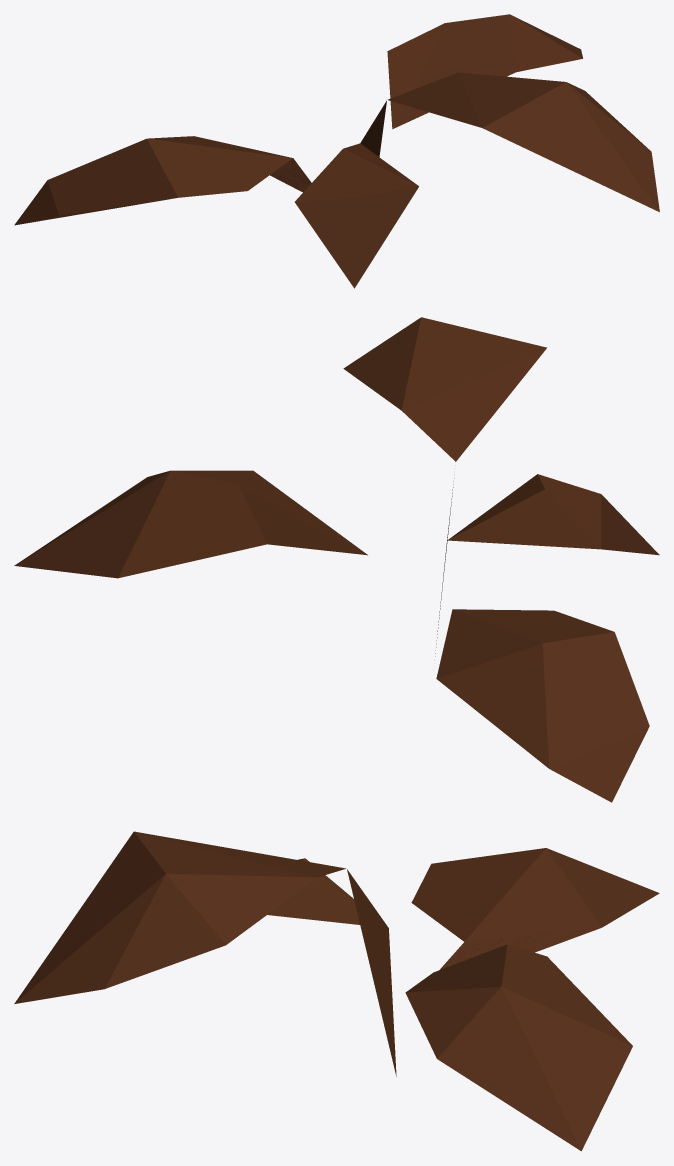
The model's file is ShrubLeavesTiny02.fbx.
The picture shows the model from 3 angles, top to bottom: view 1: azimuth 30°, elevation 25°; view 2: azimuth 150°, elevation 25°; view 3: azimuth 270°, elevation 25°; orthographic projection. The views are drawn at different scales.
Visible parts, largest first — view 1: ShrubLeavesTiny02; view 2: ShrubLeavesTiny02; view 3: ShrubLeavesTiny02.
Part boxes in pixels (x1=…): ShrubLeavesTiny02: x1=14, y1=14, x2=659, y2=288; ShrubLeavesTiny02: x1=14, y1=317, x2=659, y2=802; ShrubLeavesTiny02: x1=14, y1=831, x2=659, y2=1151.
Bounding box in the file's own units: 48.86 × 18.77 × 41.26.
